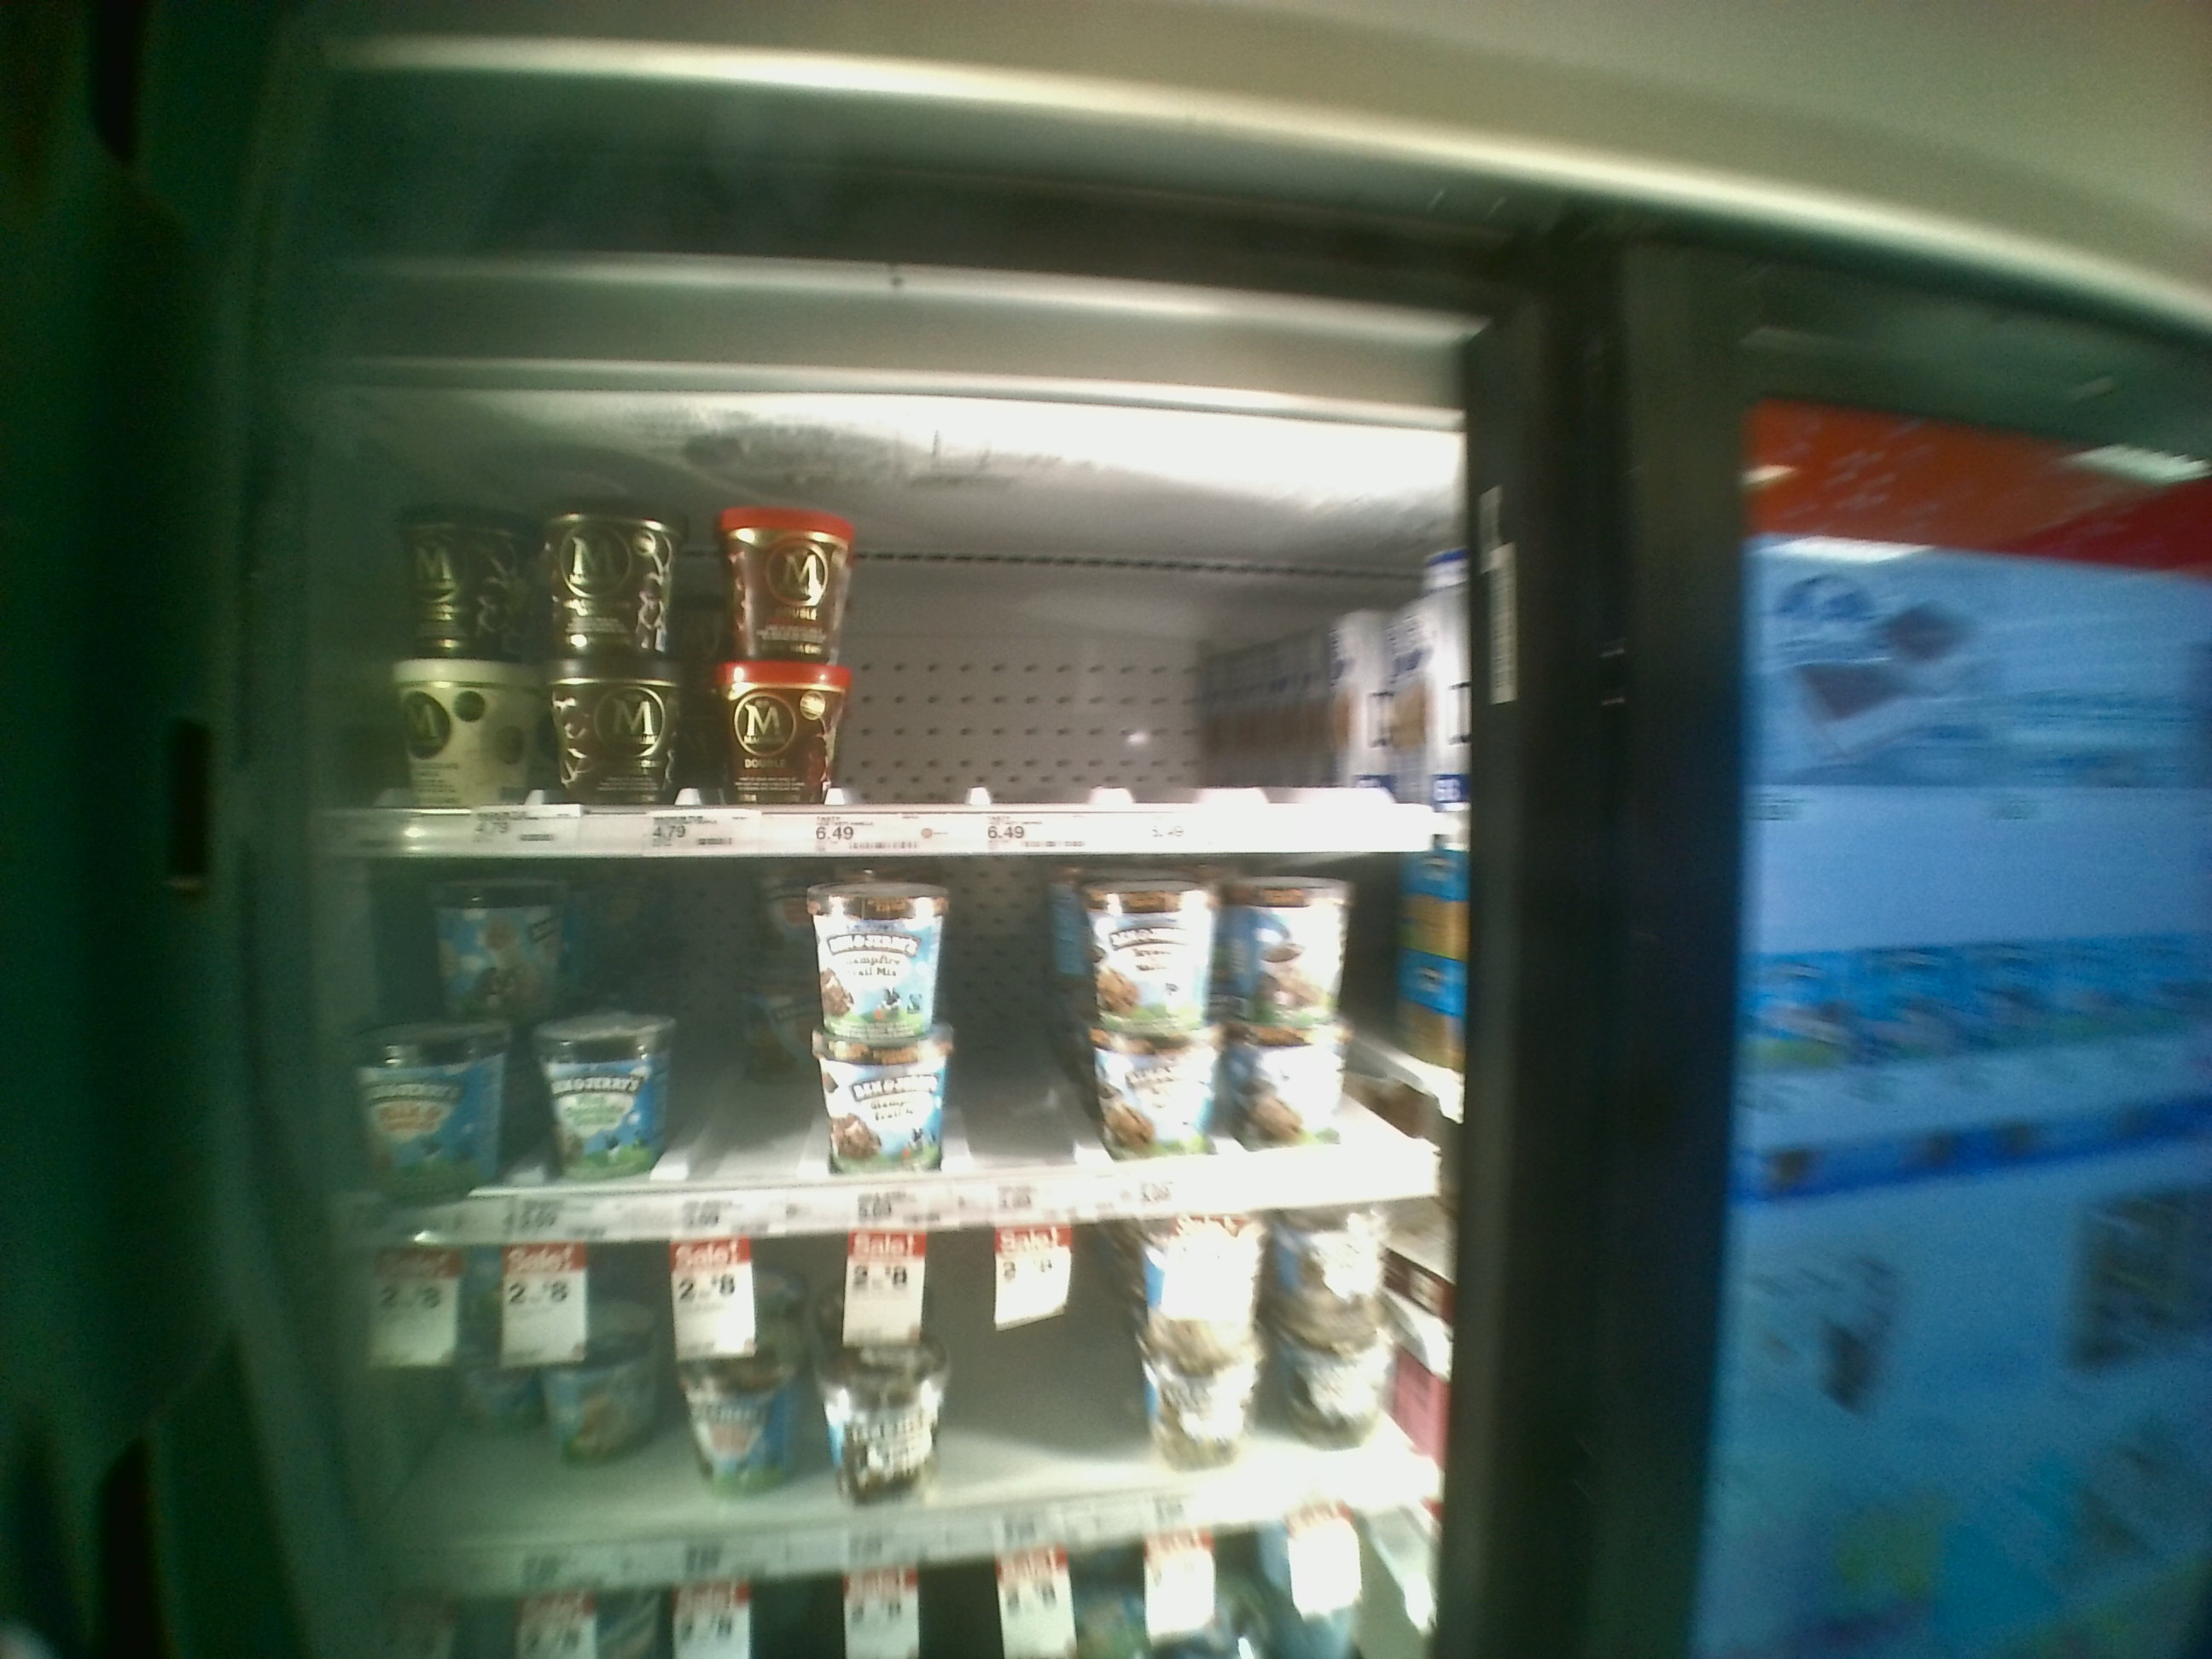ice-cream-shelf: (340, 437, 1451, 859), (340, 863, 1453, 1246)
